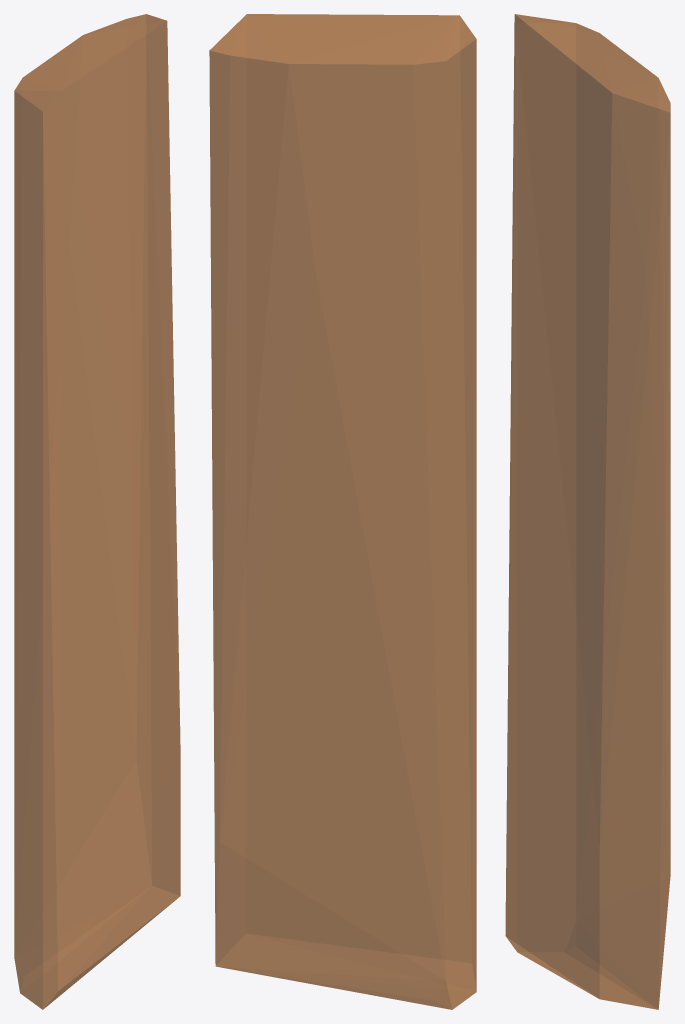
3 renders of one model, left to right at view 1: azimuth 30°, elevation 25°; view 2: azimuth 150°, elevation 25°; view 3: azimuth 270°, elevation 25°, orthographic. The views are drawn at different scales.
Parts seen in each view (by area): view 1: Shape_IndexedFaceSet.023_Shape_IndexedFaceSet.12345; view 2: Shape_IndexedFaceSet.023_Shape_IndexedFaceSet.12345; view 3: Shape_IndexedFaceSet.023_Shape_IndexedFaceSet.12345.
Boxes of the visible parts, left/top/right/bottom form: Shape_IndexedFaceSet.023_Shape_IndexedFaceSet.12345: left=14, top=14, right=180, bottom=1009; Shape_IndexedFaceSet.023_Shape_IndexedFaceSet.12345: left=209, top=14, right=476, bottom=1009; Shape_IndexedFaceSet.023_Shape_IndexedFaceSet.12345: left=505, top=14, right=670, bottom=1009.
Bounding box in the file's own units: 0.0448 × 0.2209 × 0.0349.
